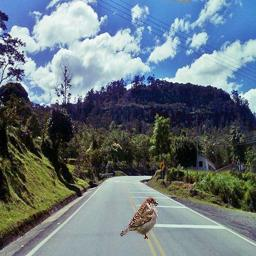Sparrow: (120, 197, 159, 240)
